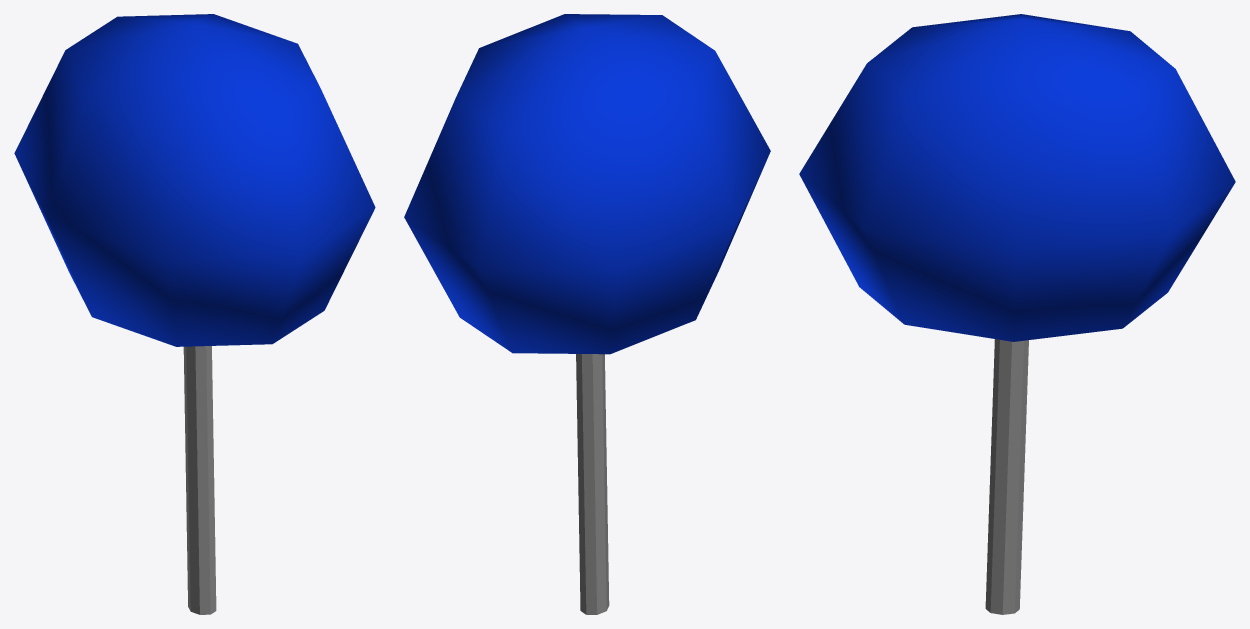
The model's file is MOD_BalloonF.FBX.
The picture shows the model from 3 angles, left to right: view 1: azimuth 30°, elevation 25°; view 2: azimuth 150°, elevation 25°; view 3: azimuth 270°, elevation 25°; orthographic projection.
Parts seen in each view (by area): view 1: Object006; view 2: Object006; view 3: Object006.
Boxes of the visible parts, x1,y1,x2,y2 form: Object006: (14,14,375,614); Object006: (404,14,770,614); Object006: (799,14,1235,614).
Size of the model in its own units: 18.5 by 34.48 by 23.14.
